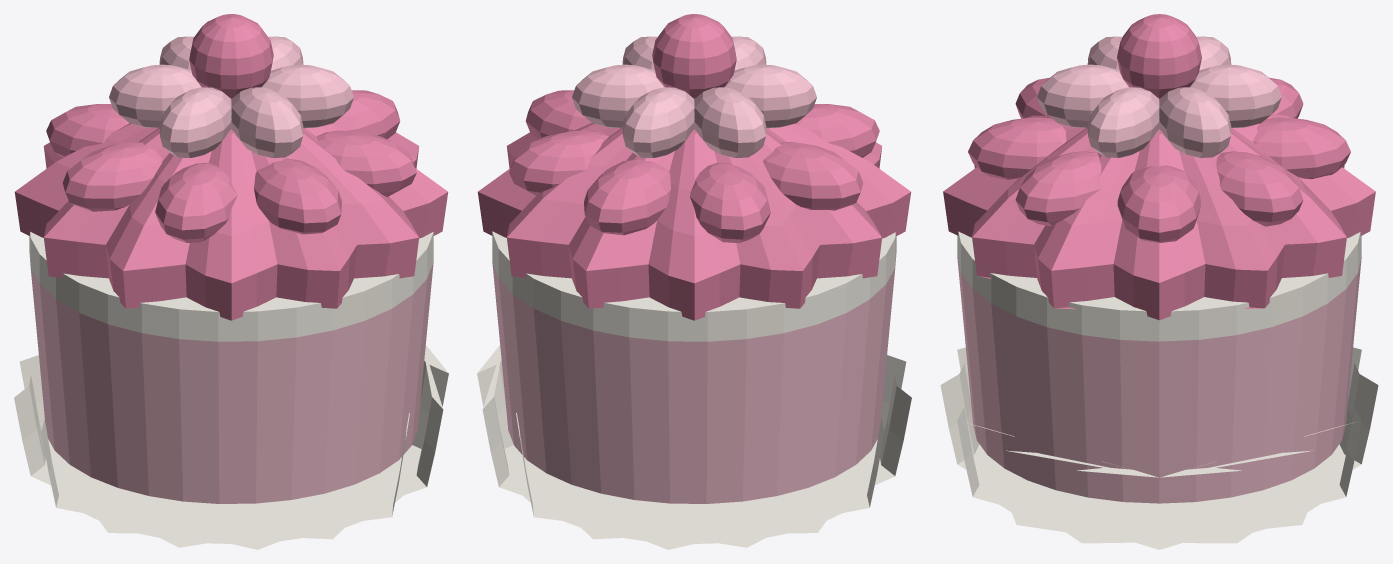
The picture shows the model from 3 angles, left to right: view 1: azimuth 30°, elevation 25°; view 2: azimuth 150°, elevation 25°; view 3: azimuth 270°, elevation 25°; orthographic projection.
Parts seen in each view (by area): view 1: PinkCake, RoseBase, WhitePaperCup, CreamRim, RoseHeart, RosePetal_0_6, RosePetal_0_4, RosePetal_0_5, RosePetal_1_4, RosePetal_1_3, RosePetal_0_7, RosePetal_1_2 (+5 smaller); view 2: PinkCake, RoseBase, WhitePaperCup, CreamRim, RoseHeart, RosePetal_0_2, RosePetal_0_4, RosePetal_0_3, RosePetal_1_2, RosePetal_1_1, RosePetal_0_1, RosePetal_1_0 (+5 smaller); view 3: PinkCake, RoseBase, WhitePaperCup, CreamRim, RoseHeart, RosePetal_0_0, RosePetal_0_1, RosePetal_0_7, RosePetal_0_2, RosePetal_0_6, RosePetal_1_0, RosePetal_1_5 (+6 smaller).
Part boxes in pixels (<box>): PinkCake: <box>30,262,433,503</box>; RoseBase: <box>14,123,448,320</box>; WhitePaperCup: <box>14,345,448,549</box>; CreamRim: <box>29,231,433,341</box>; RoseHeart: <box>189,14,273,100</box>; RosePetal_0_6: <box>254,158,341,234</box>; RosePetal_0_4: <box>62,142,162,211</box>; RosePetal_0_5: <box>155,162,237,242</box>; RosePetal_1_4: <box>231,87,303,157</box>; RosePetal_1_3: <box>159,87,231,157</box>; RosePetal_0_7: <box>316,130,416,196</box>; RosePetal_1_2: <box>109,64,201,128</box>; PinkCake: <box>492,262,895,503</box>; RoseBase: <box>477,123,911,320</box>; WhitePaperCup: <box>477,345,911,549</box>; CreamRim: <box>492,231,896,341</box>; RoseHeart: <box>652,14,736,100</box>; RosePetal_0_2: <box>584,159,670,235</box>; RosePetal_0_4: <box>763,142,863,210</box>; RosePetal_0_3: <box>690,162,770,242</box>; RosePetal_1_2: <box>694,87,766,157</box>; RosePetal_1_1: <box>622,87,694,157</box>; RosePetal_0_1: <box>509,130,609,195</box>; RosePetal_1_0: <box>572,64,664,128</box>; PinkCake: <box>957,257,1361,503</box>; RoseBase: <box>943,113,1375,320</box>; WhitePaperCup: <box>940,347,1378,549</box>; CreamRim: <box>957,231,1361,341</box>; RoseHeart: <box>1117,14,1201,100</box>; RosePetal_0_0: <box>1117,165,1200,242</box>; RosePetal_0_1: <box>1216,151,1303,226</box>; RosePetal_0_7: <box>1015,151,1101,225</box>; RosePetal_0_2: <box>1253,117,1350,179</box>; RosePetal_0_6: <box>968,117,1066,179</box>; RosePetal_1_0: <box>1159,87,1231,157</box>; RosePetal_1_5: <box>1087,87,1159,157</box>.
Size of the model in its own units: 0.08 by 0.09 by 0.08.
